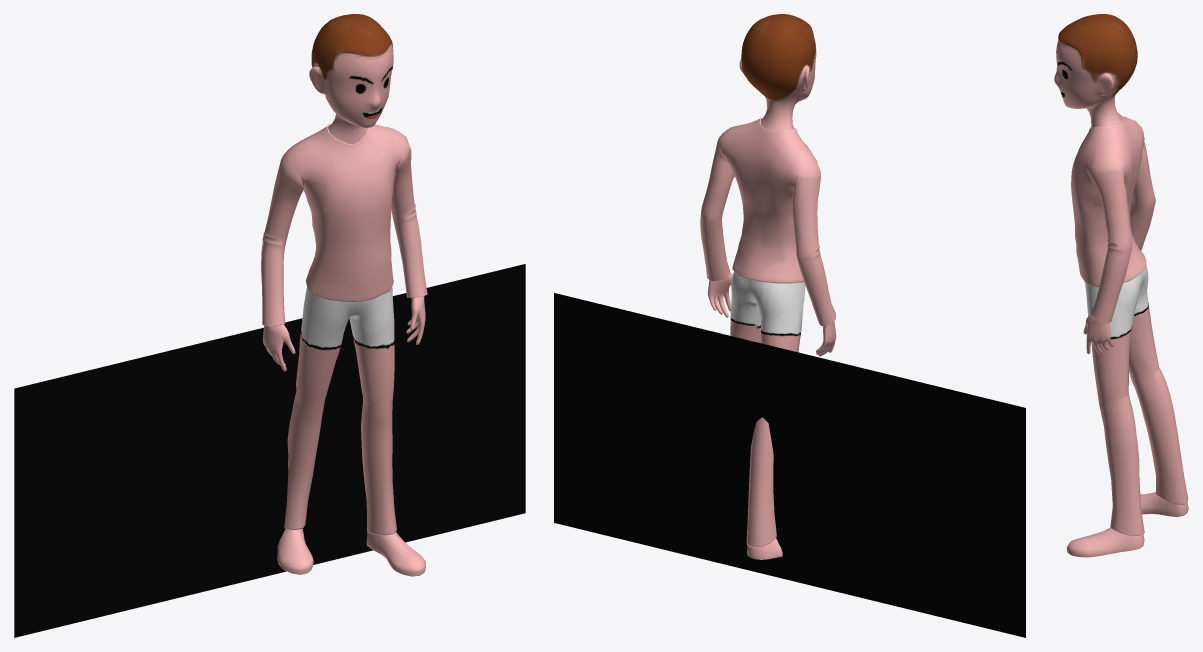
File: chico0 - fase3.fbx
3 renders of one model, left to right at view 1: azimuth 30°, elevation 25°; view 2: azimuth 150°, elevation 25°; view 3: azimuth 270°, elevation 25°, orthographic. The views are drawn at different scales.
Visible parts, largest first — view 1: node_id6, node_id9; view 2: node_id6, node_id9; view 3: node_id9.
Boxes of the visible parts, <box> form: node_id6: <box>14,264,525,637</box>; node_id9: <box>261,14,427,576</box>; node_id6: <box>554,293,1025,637</box>; node_id9: <box>700,14,836,559</box>; node_id9: <box>1054,14,1188,557</box>.
Size of the model in its own units: 0.512 by 0.5466 by 0.1265.
Materials: 2 (2 with a texture image).
